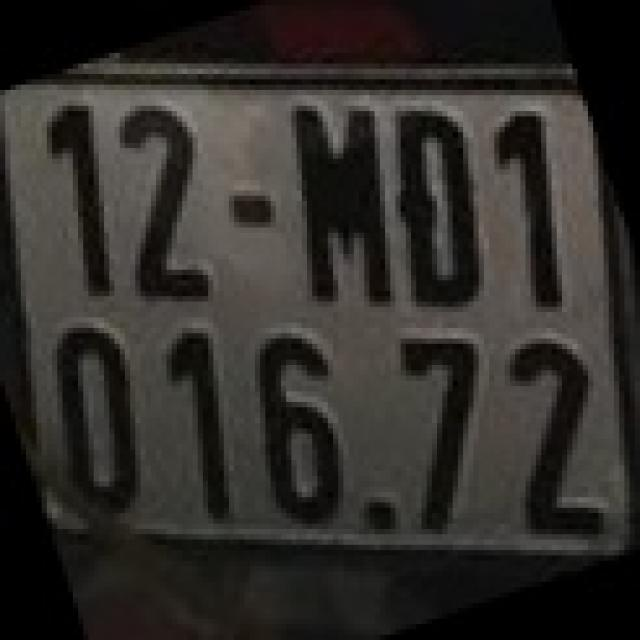0: (47, 317, 146, 513)
1: (489, 106, 572, 312), (42, 100, 125, 302), (162, 328, 240, 524)
2: (505, 333, 619, 540), (120, 95, 218, 302)
6: (250, 328, 348, 524)
7: (395, 328, 484, 534)
D: (395, 106, 484, 307)
M: (289, 106, 393, 307)
